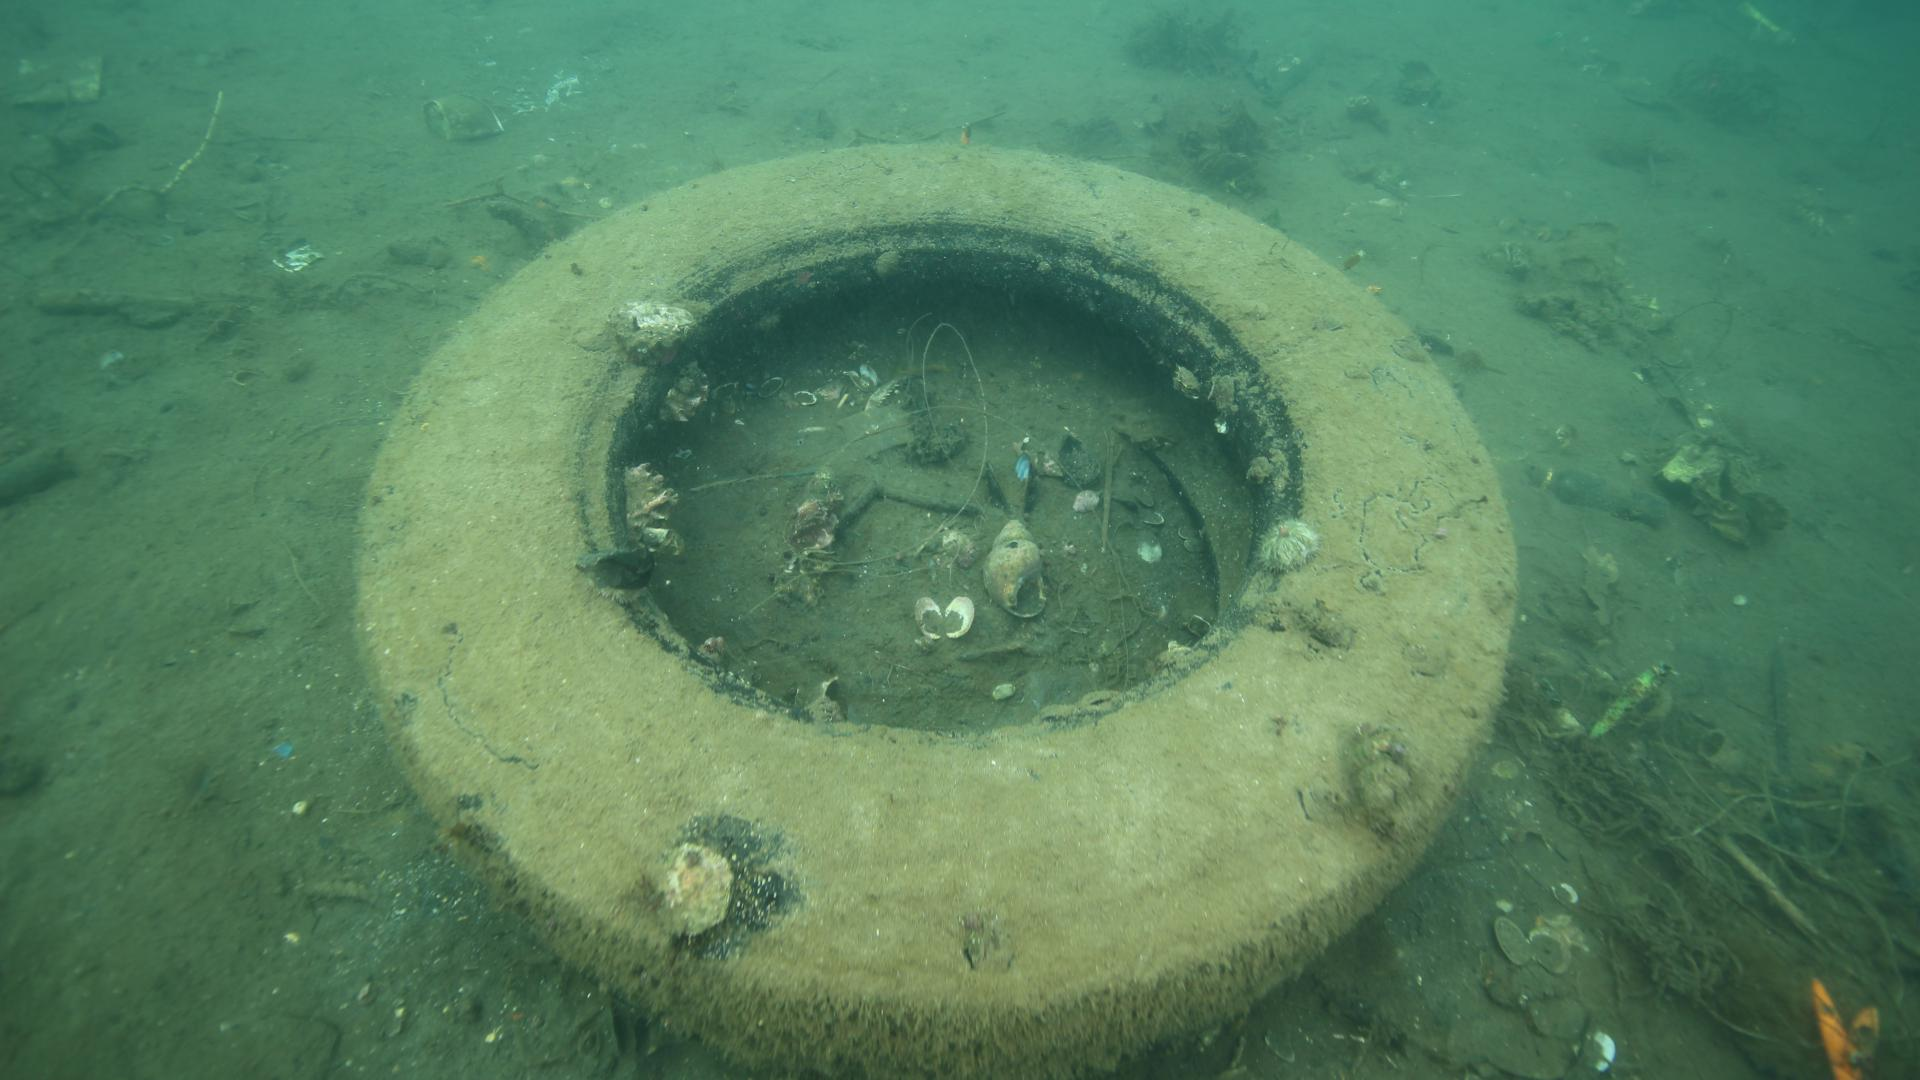tire: (353, 136, 1520, 1080)
